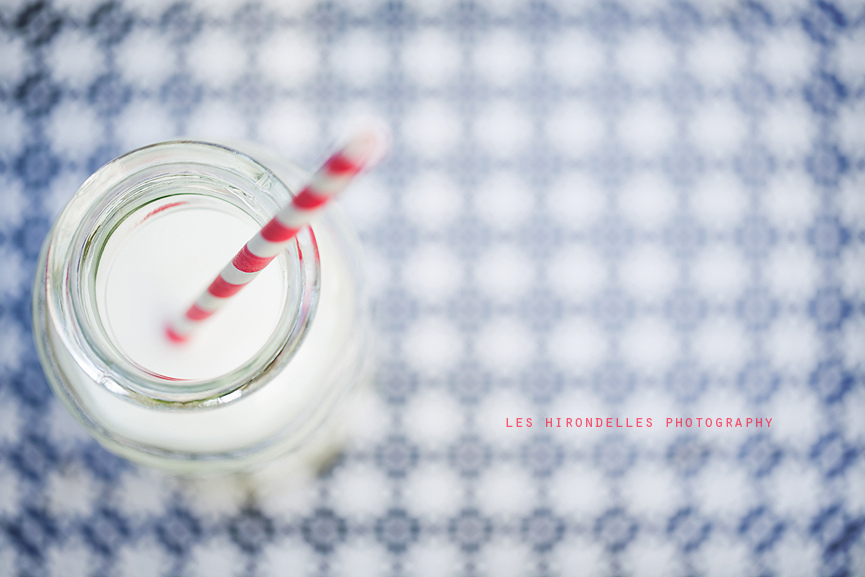glass of milk: (47, 143, 323, 409)
